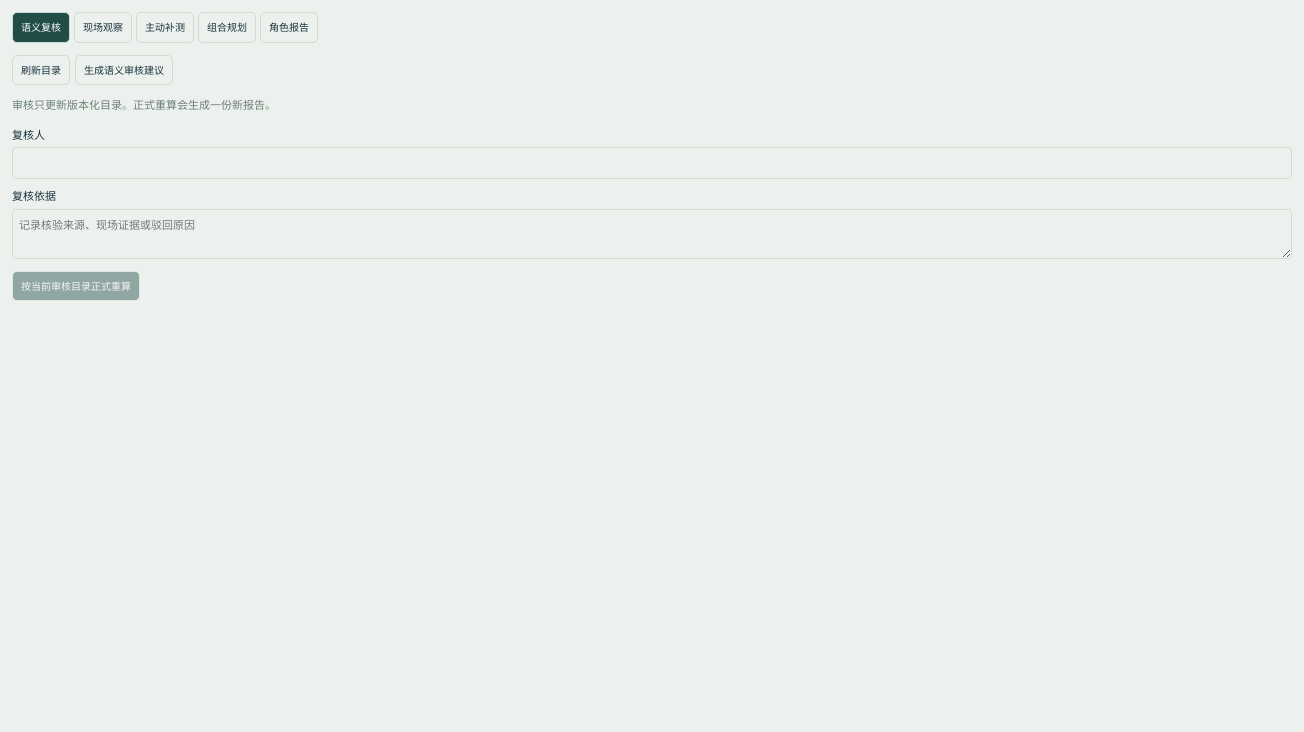
Test case: 审核、测量与组合规划闭环 › 真实补测携带显式预算并展示未入正式评分的空间结果
Click the button "主动补测" at (165, 27), box [136,12,194,42]
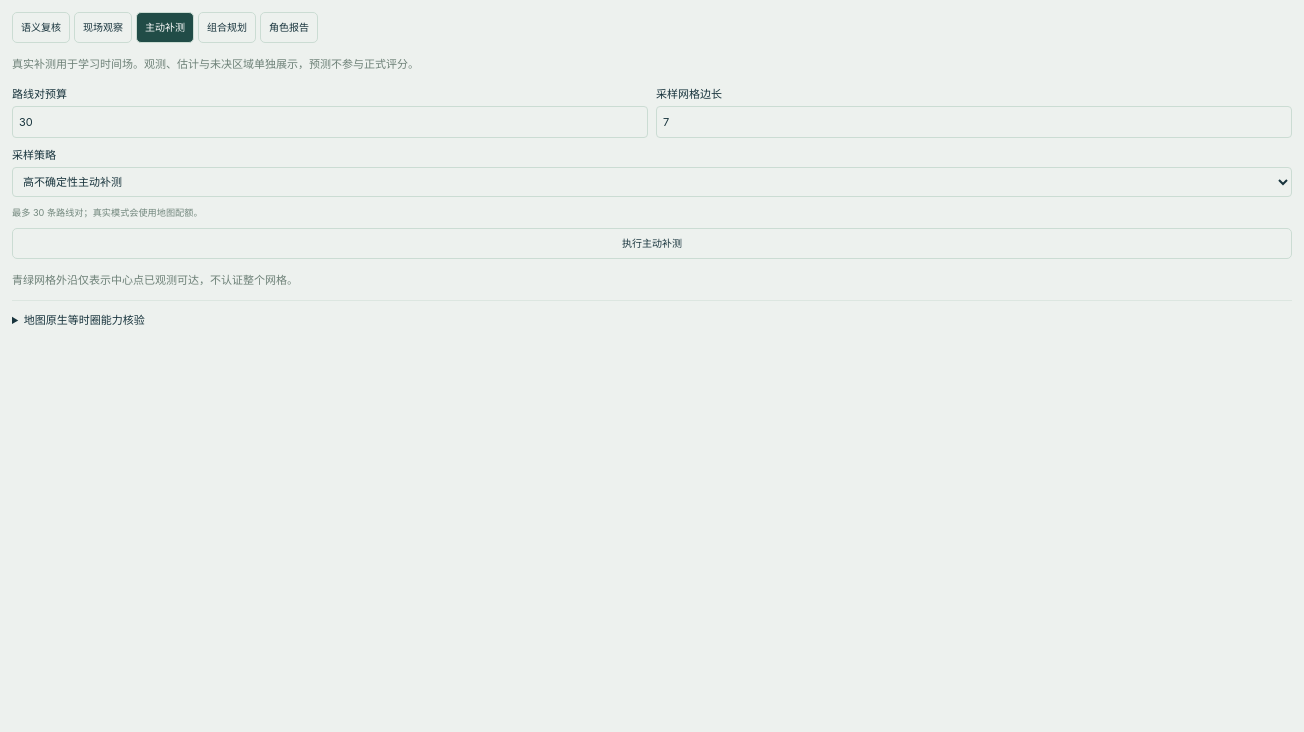
Replace the text in the number field labelled "路线对预算" with "12" at (330, 122), box [12,106,648,138]
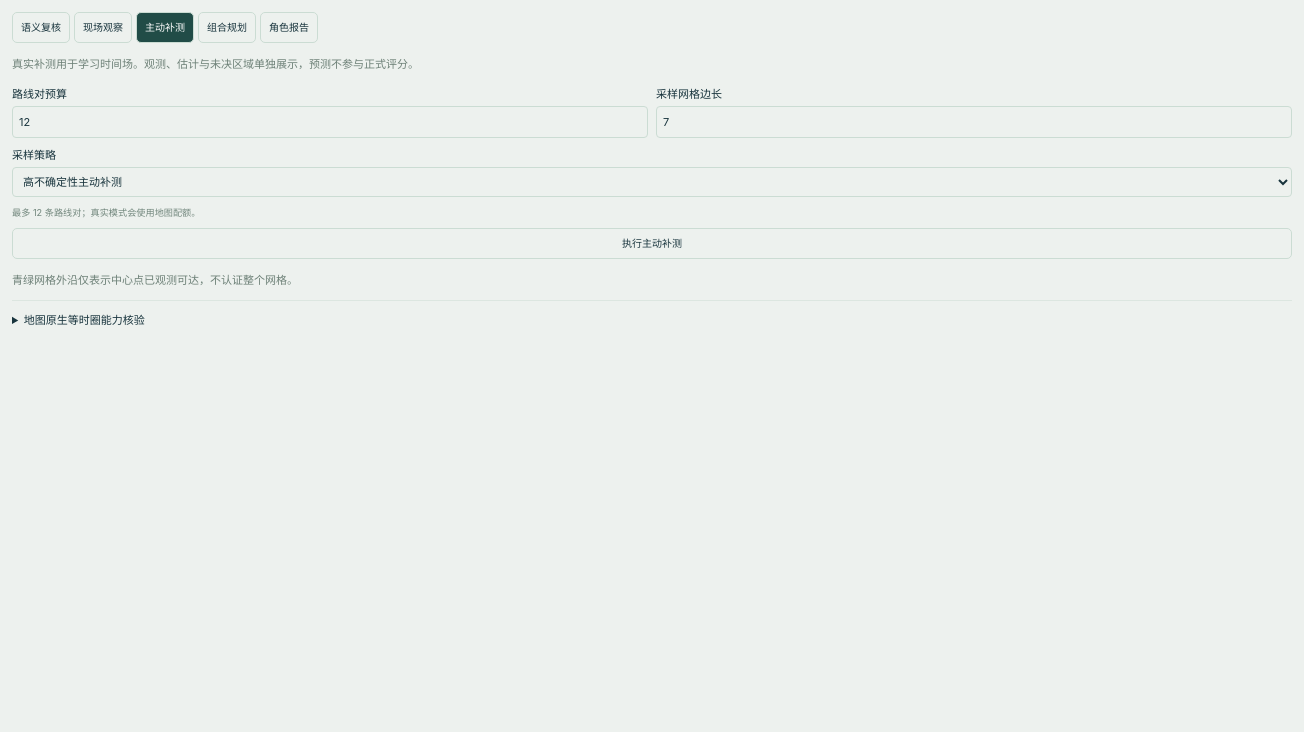
Replace the text in the number field labelled "采样网格边长" with "5" at (974, 122), box [656,106,1292,138]
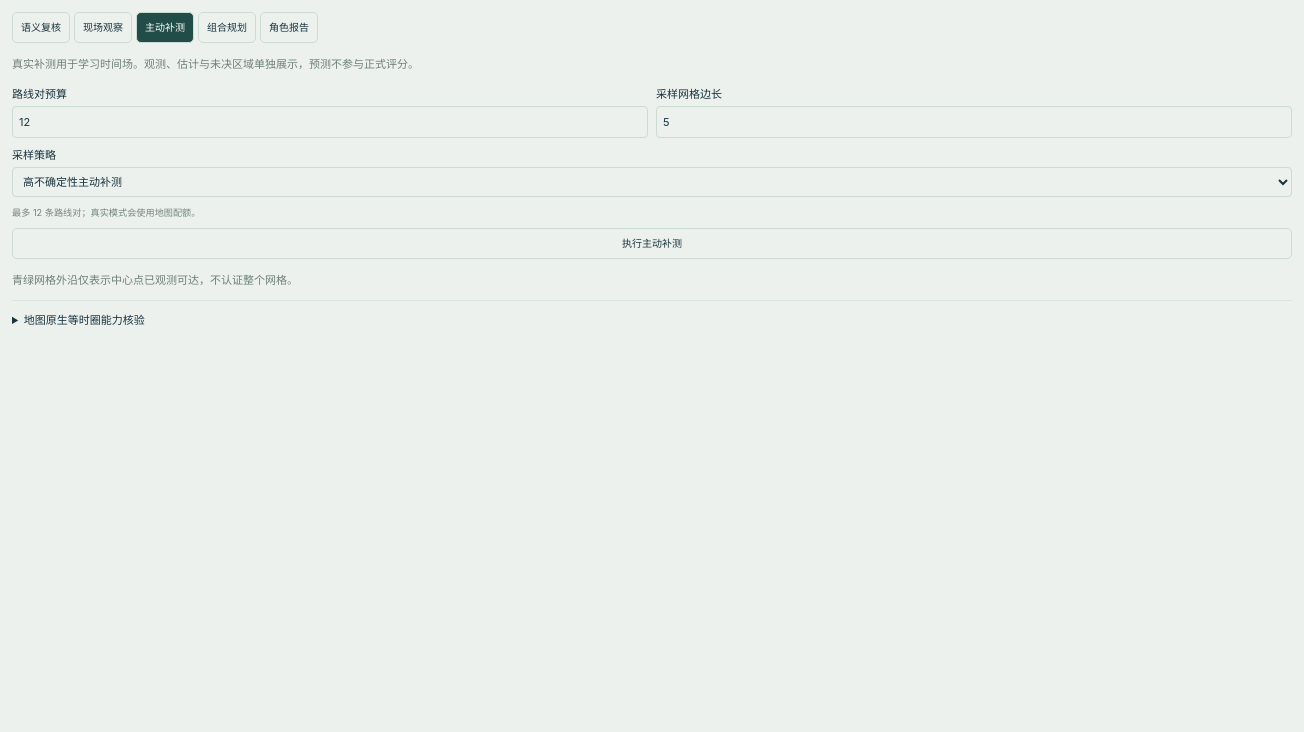
Submit the form, box [12,85,1292,259]
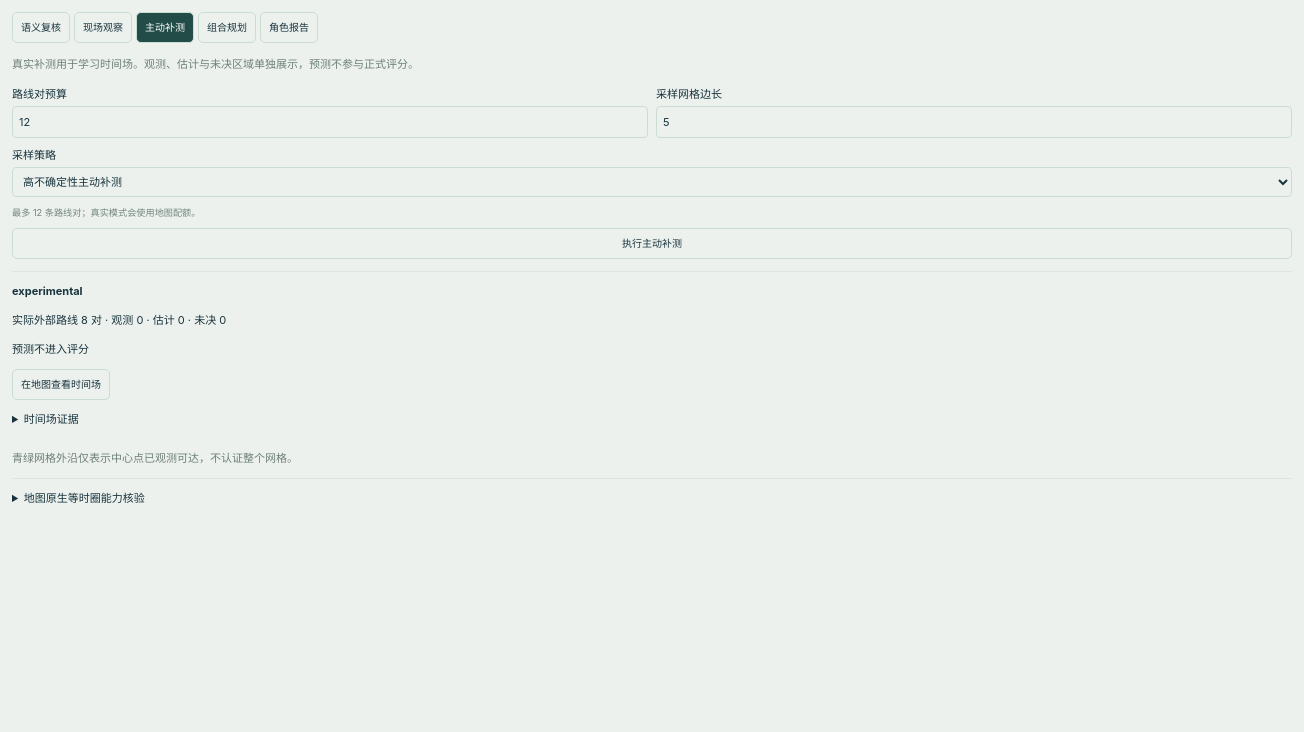
Expected: the text "实际外部路线 8 对" is shown, [12,313,226,327]
Replace the text in the number field labelled "路线对预算" with "201" at (330, 122), box [12,106,648,138]
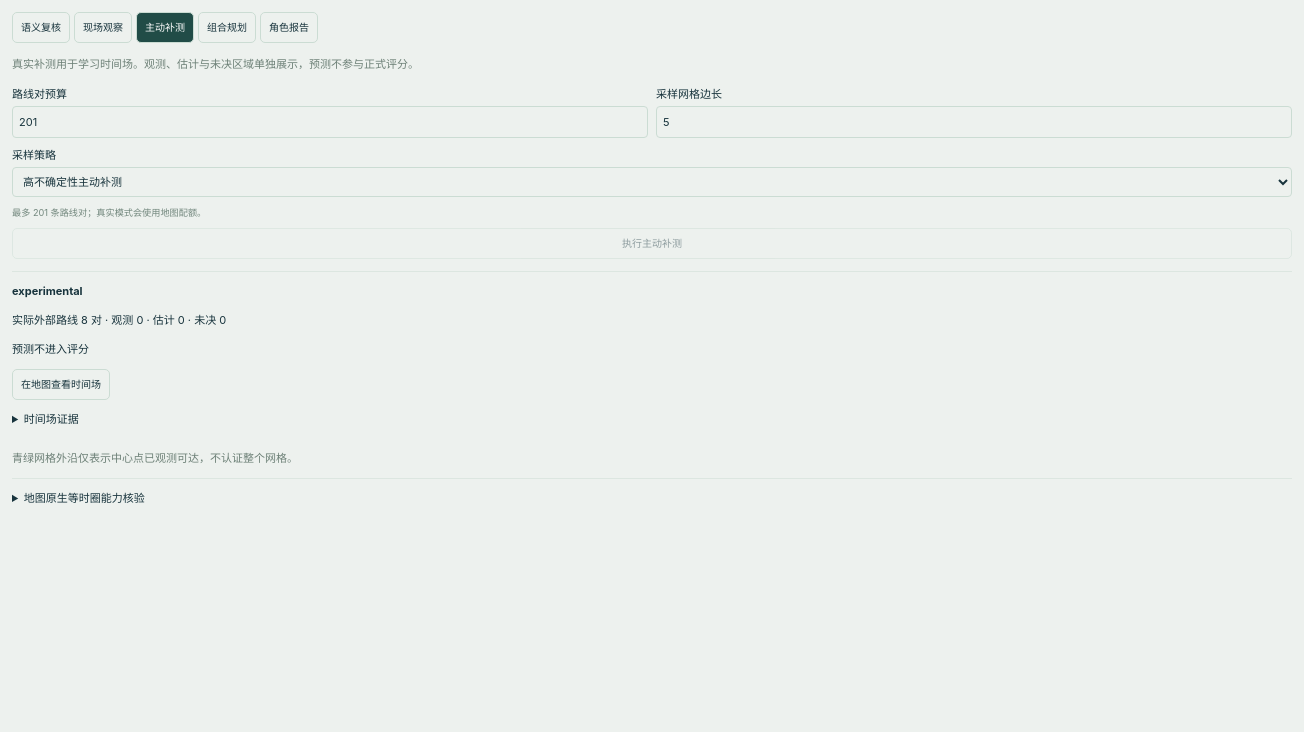
Expected: the button "执行主动补测" is disabled, [12,228,1292,259]
